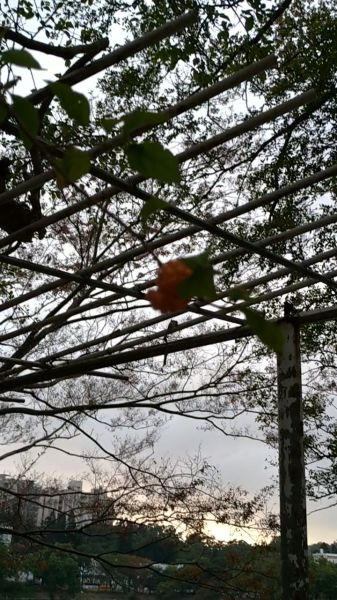eggs: (139, 249, 198, 316)
